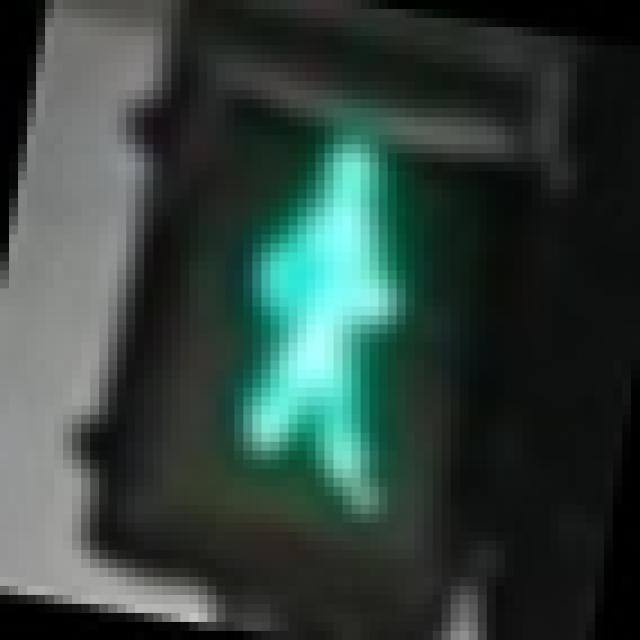geen-crossing: (108, 63, 504, 541)
